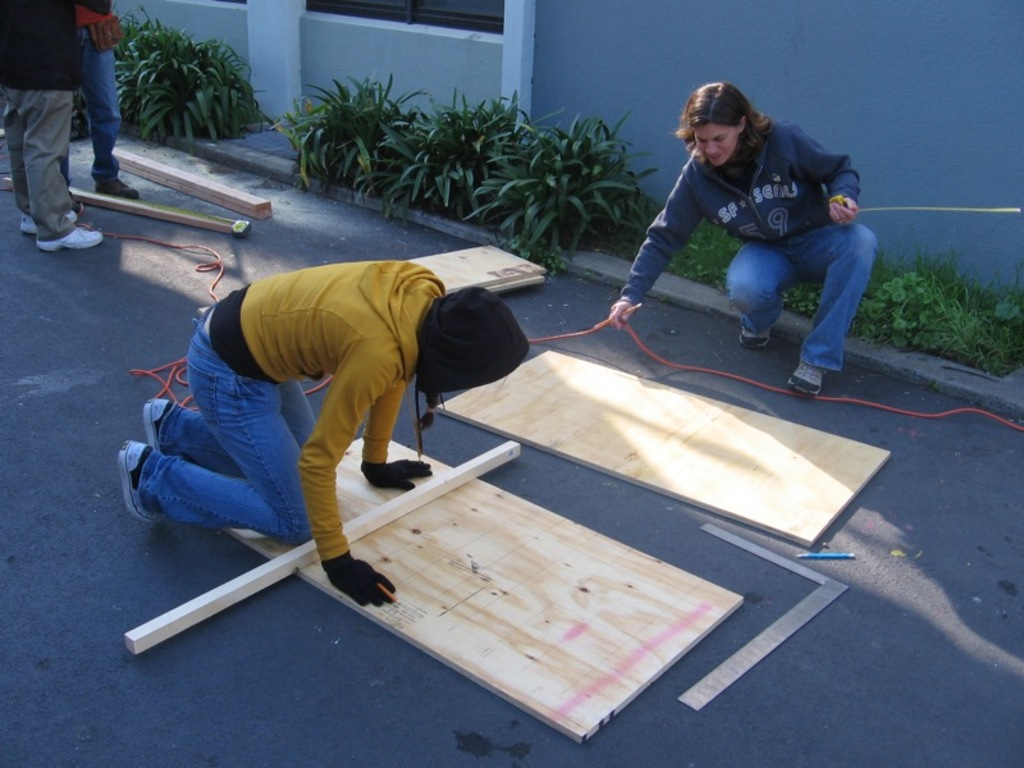Person: (117, 259, 529, 606), (608, 82, 880, 402), (0, 0, 109, 250), (59, 0, 138, 216)
